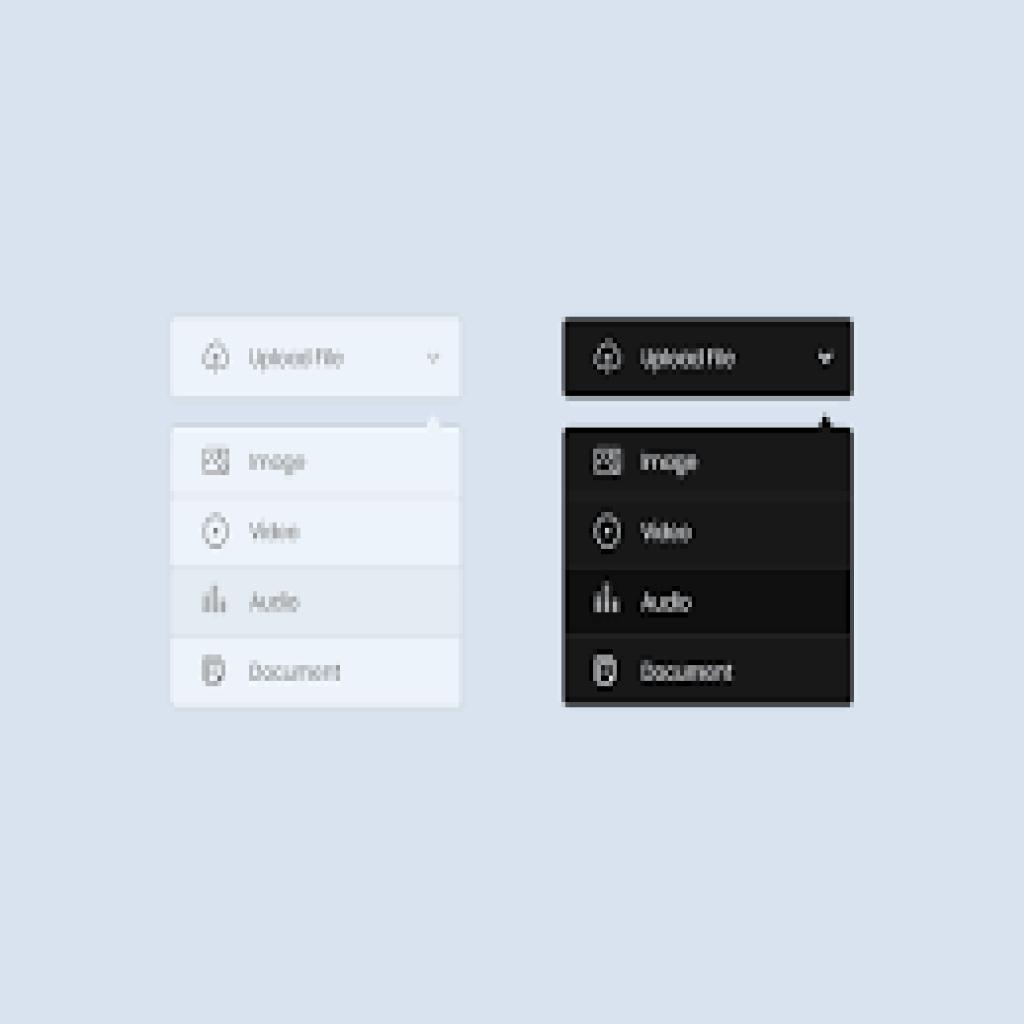dropdown: (172, 314, 462, 399), (565, 319, 853, 400)
